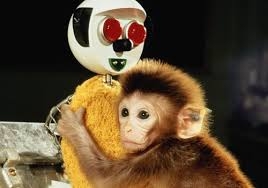monkey: (84, 45, 238, 165)
